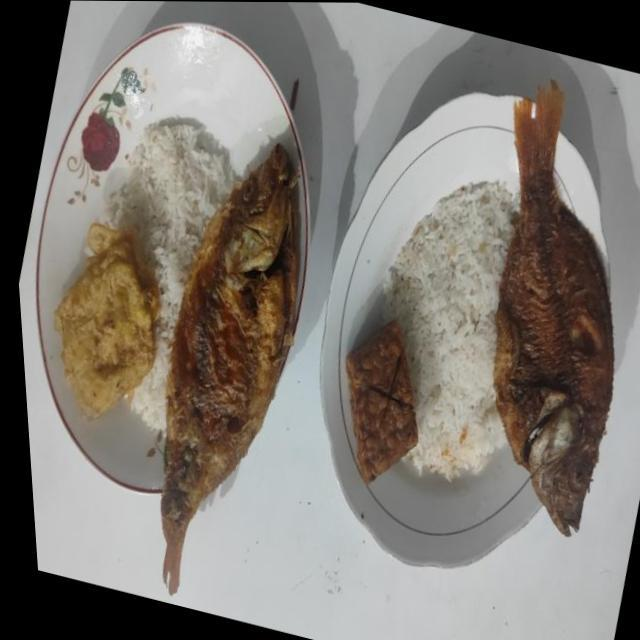ikan_mujair: (160, 144, 298, 594), (492, 80, 614, 536)
nasi_putih: (98, 118, 234, 432), (384, 180, 518, 480)
tempe_goreng: (346, 321, 418, 484)
